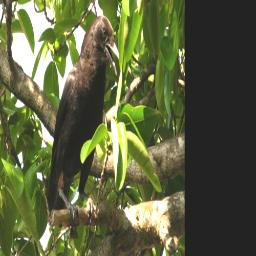Crow: (45, 11, 122, 228)
